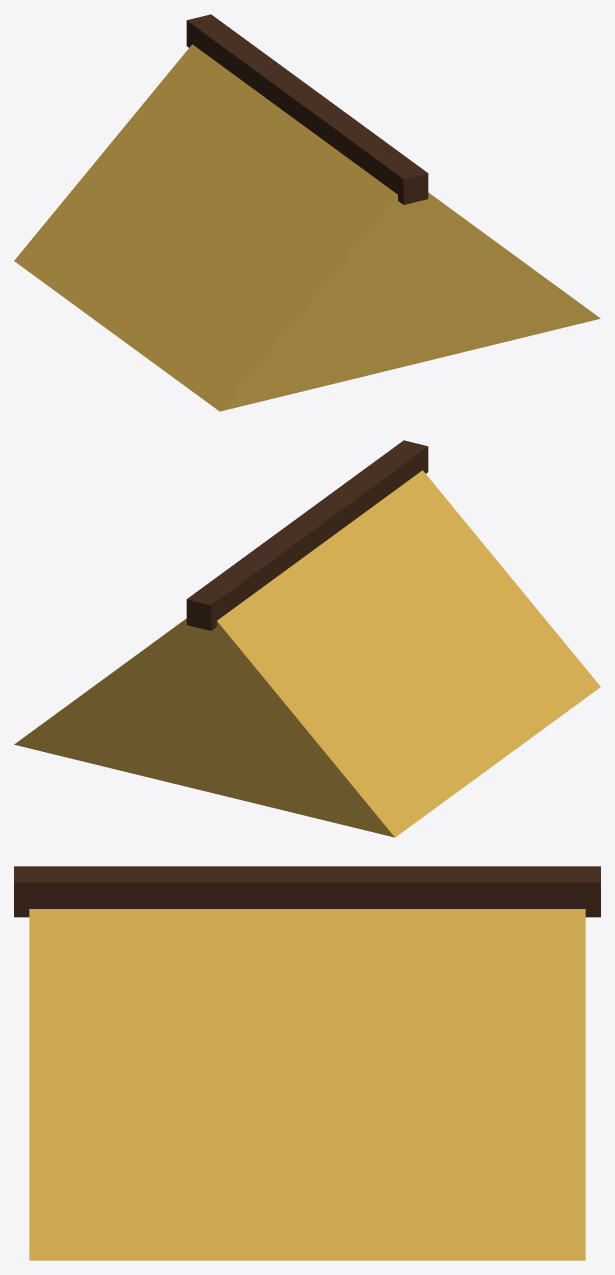
File: roof_thatch.glb
3 views of the same model, one above another, from view 1: azimuth 30°, elevation 25°; view 2: azimuth 150°, elevation 25°; view 3: azimuth 270°, elevation 25° (orthographic). The views are drawn at different scales.
Parts seen in each view (by area): view 1: roof_body, roof_ridge; view 2: roof_body, roof_ridge; view 3: roof_body, roof_ridge.
Boxes of the visible parts, x1,y1,x2,y2 form: roof_body: (14, 44, 600, 411); roof_ridge: (186, 14, 428, 204); roof_body: (14, 470, 600, 837); roof_ridge: (186, 440, 428, 630); roof_body: (29, 909, 585, 1260); roof_ridge: (14, 866, 600, 917).
Bounding box in the file's own units: 1.55 × 0.75 × 1.53.
